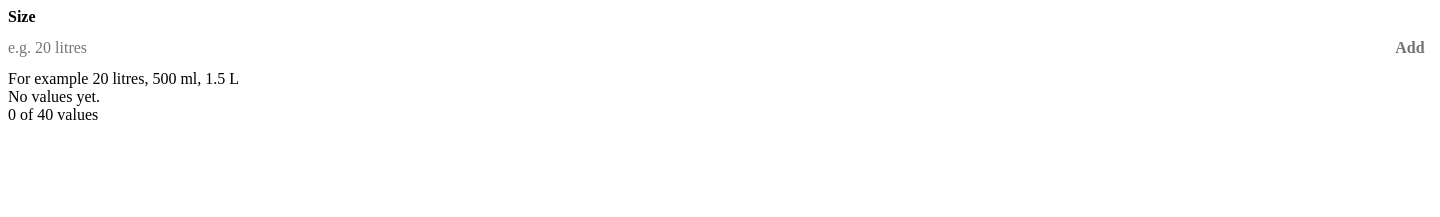
Test: water (volume) › asks which unit a bare 20 is in, and a tap finishes it
The image size is (1440, 217).
Step 1. Type "20" into the field → (698, 48), box [8,26,1388,70]
Then press Enter
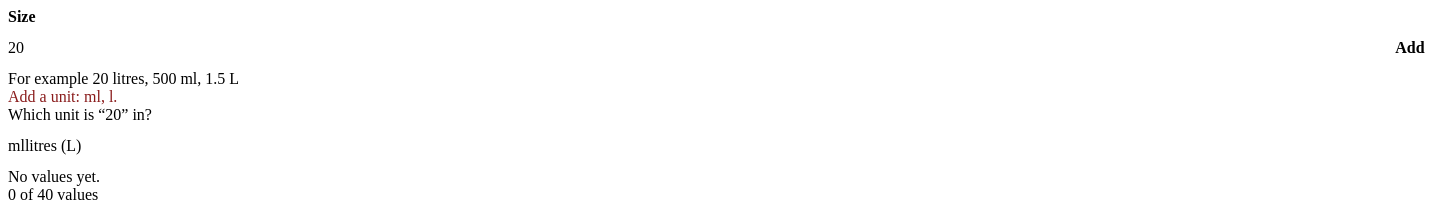
Now the message shows "unit", box [8,88,117,105]
Now the element "Which unit is “20” in? ml litres (L)" is shown, box [8,106,152,168]
Step 2. Click the button "litres (L)" → (53, 146), box [25,124,81,168]
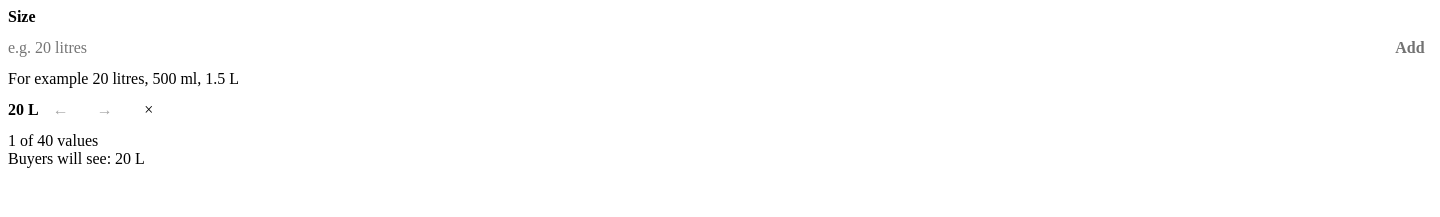
Now the message "Add a unit: ml, l." is gone
